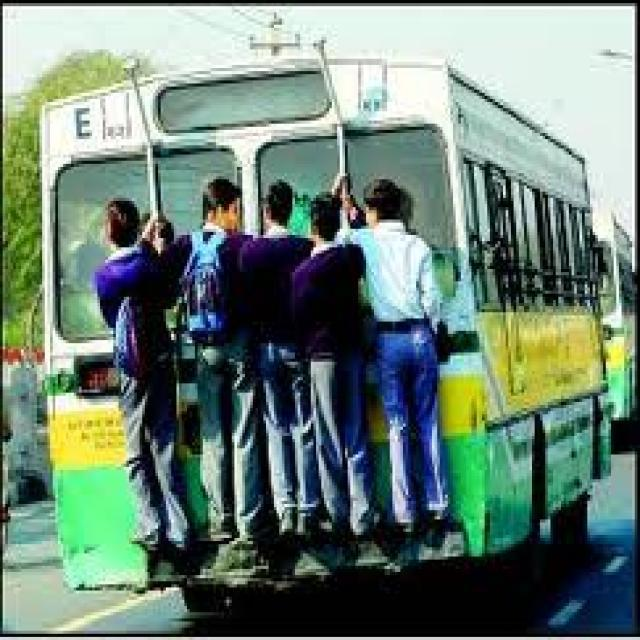bus_back: (29, 59, 608, 622)
